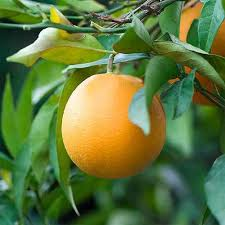orange: (60, 67, 166, 178)
